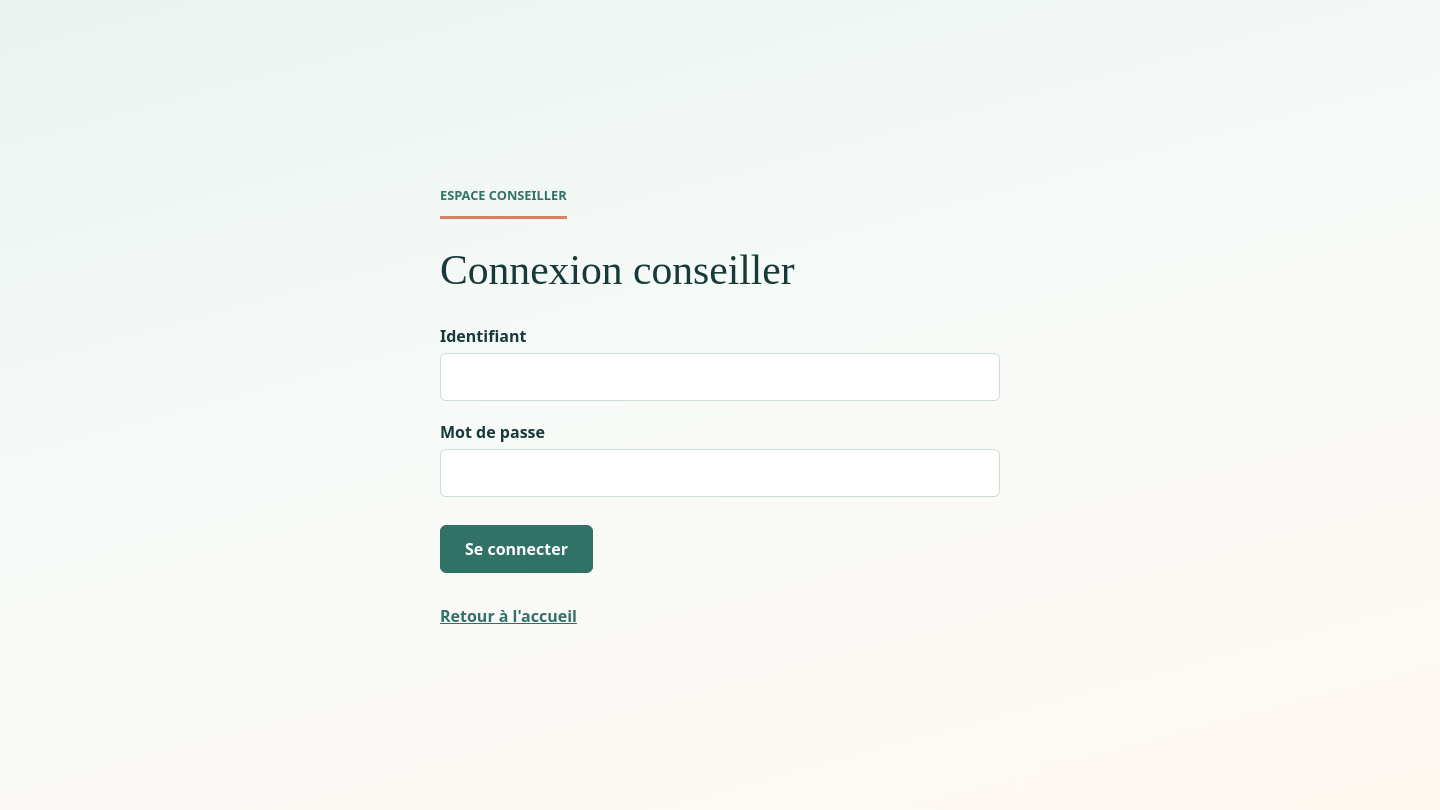
Scenario: Connexion conseiller › affiche une erreur et reste sur l'écran si les identifiants sont incorrects
The image size is (1440, 810).
Type "admin" into the field labelled "Identifiant" at (720, 377), box [440, 353, 1000, 401]
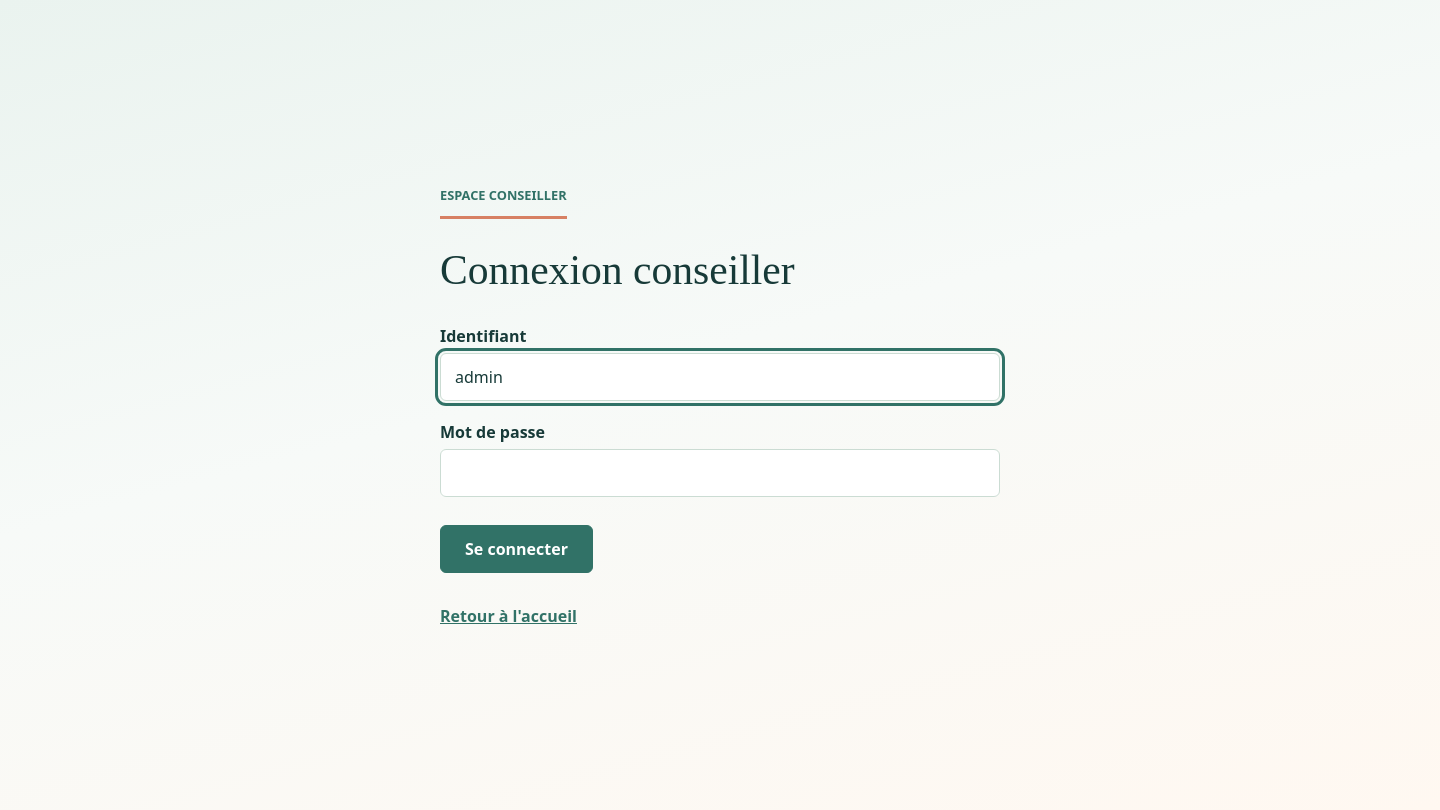
Type "faux" into the password field labelled "Mot de passe" at (720, 473), box [440, 449, 1000, 497]
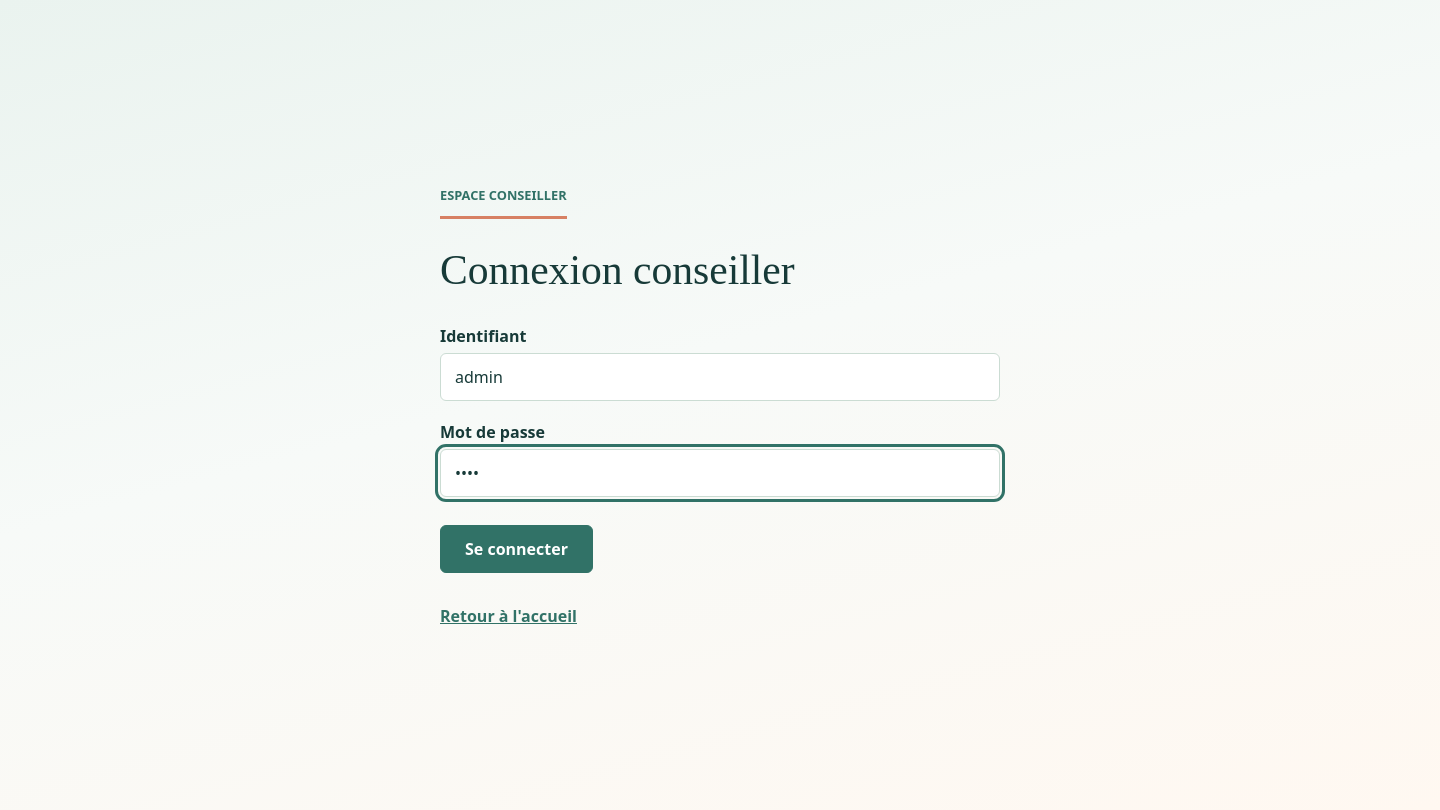
Click the button "Se connecter" at (516, 549), box [440, 525, 593, 573]
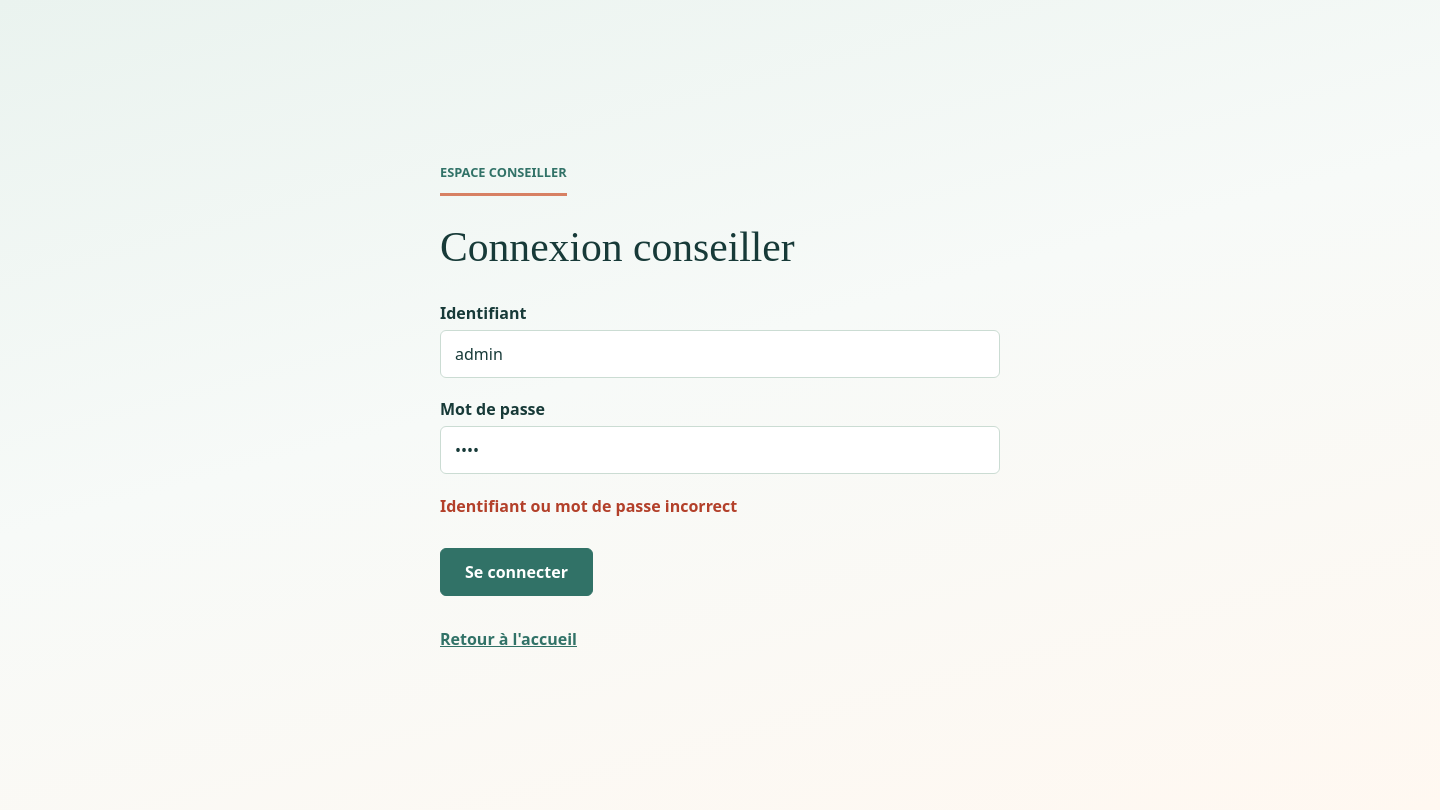
expect the heading "Connexion conseiller" is shown: met, box [440, 224, 795, 270]
expect the message reads "Identifiant ou mot de passe incorrect": met, box [440, 496, 737, 518]
